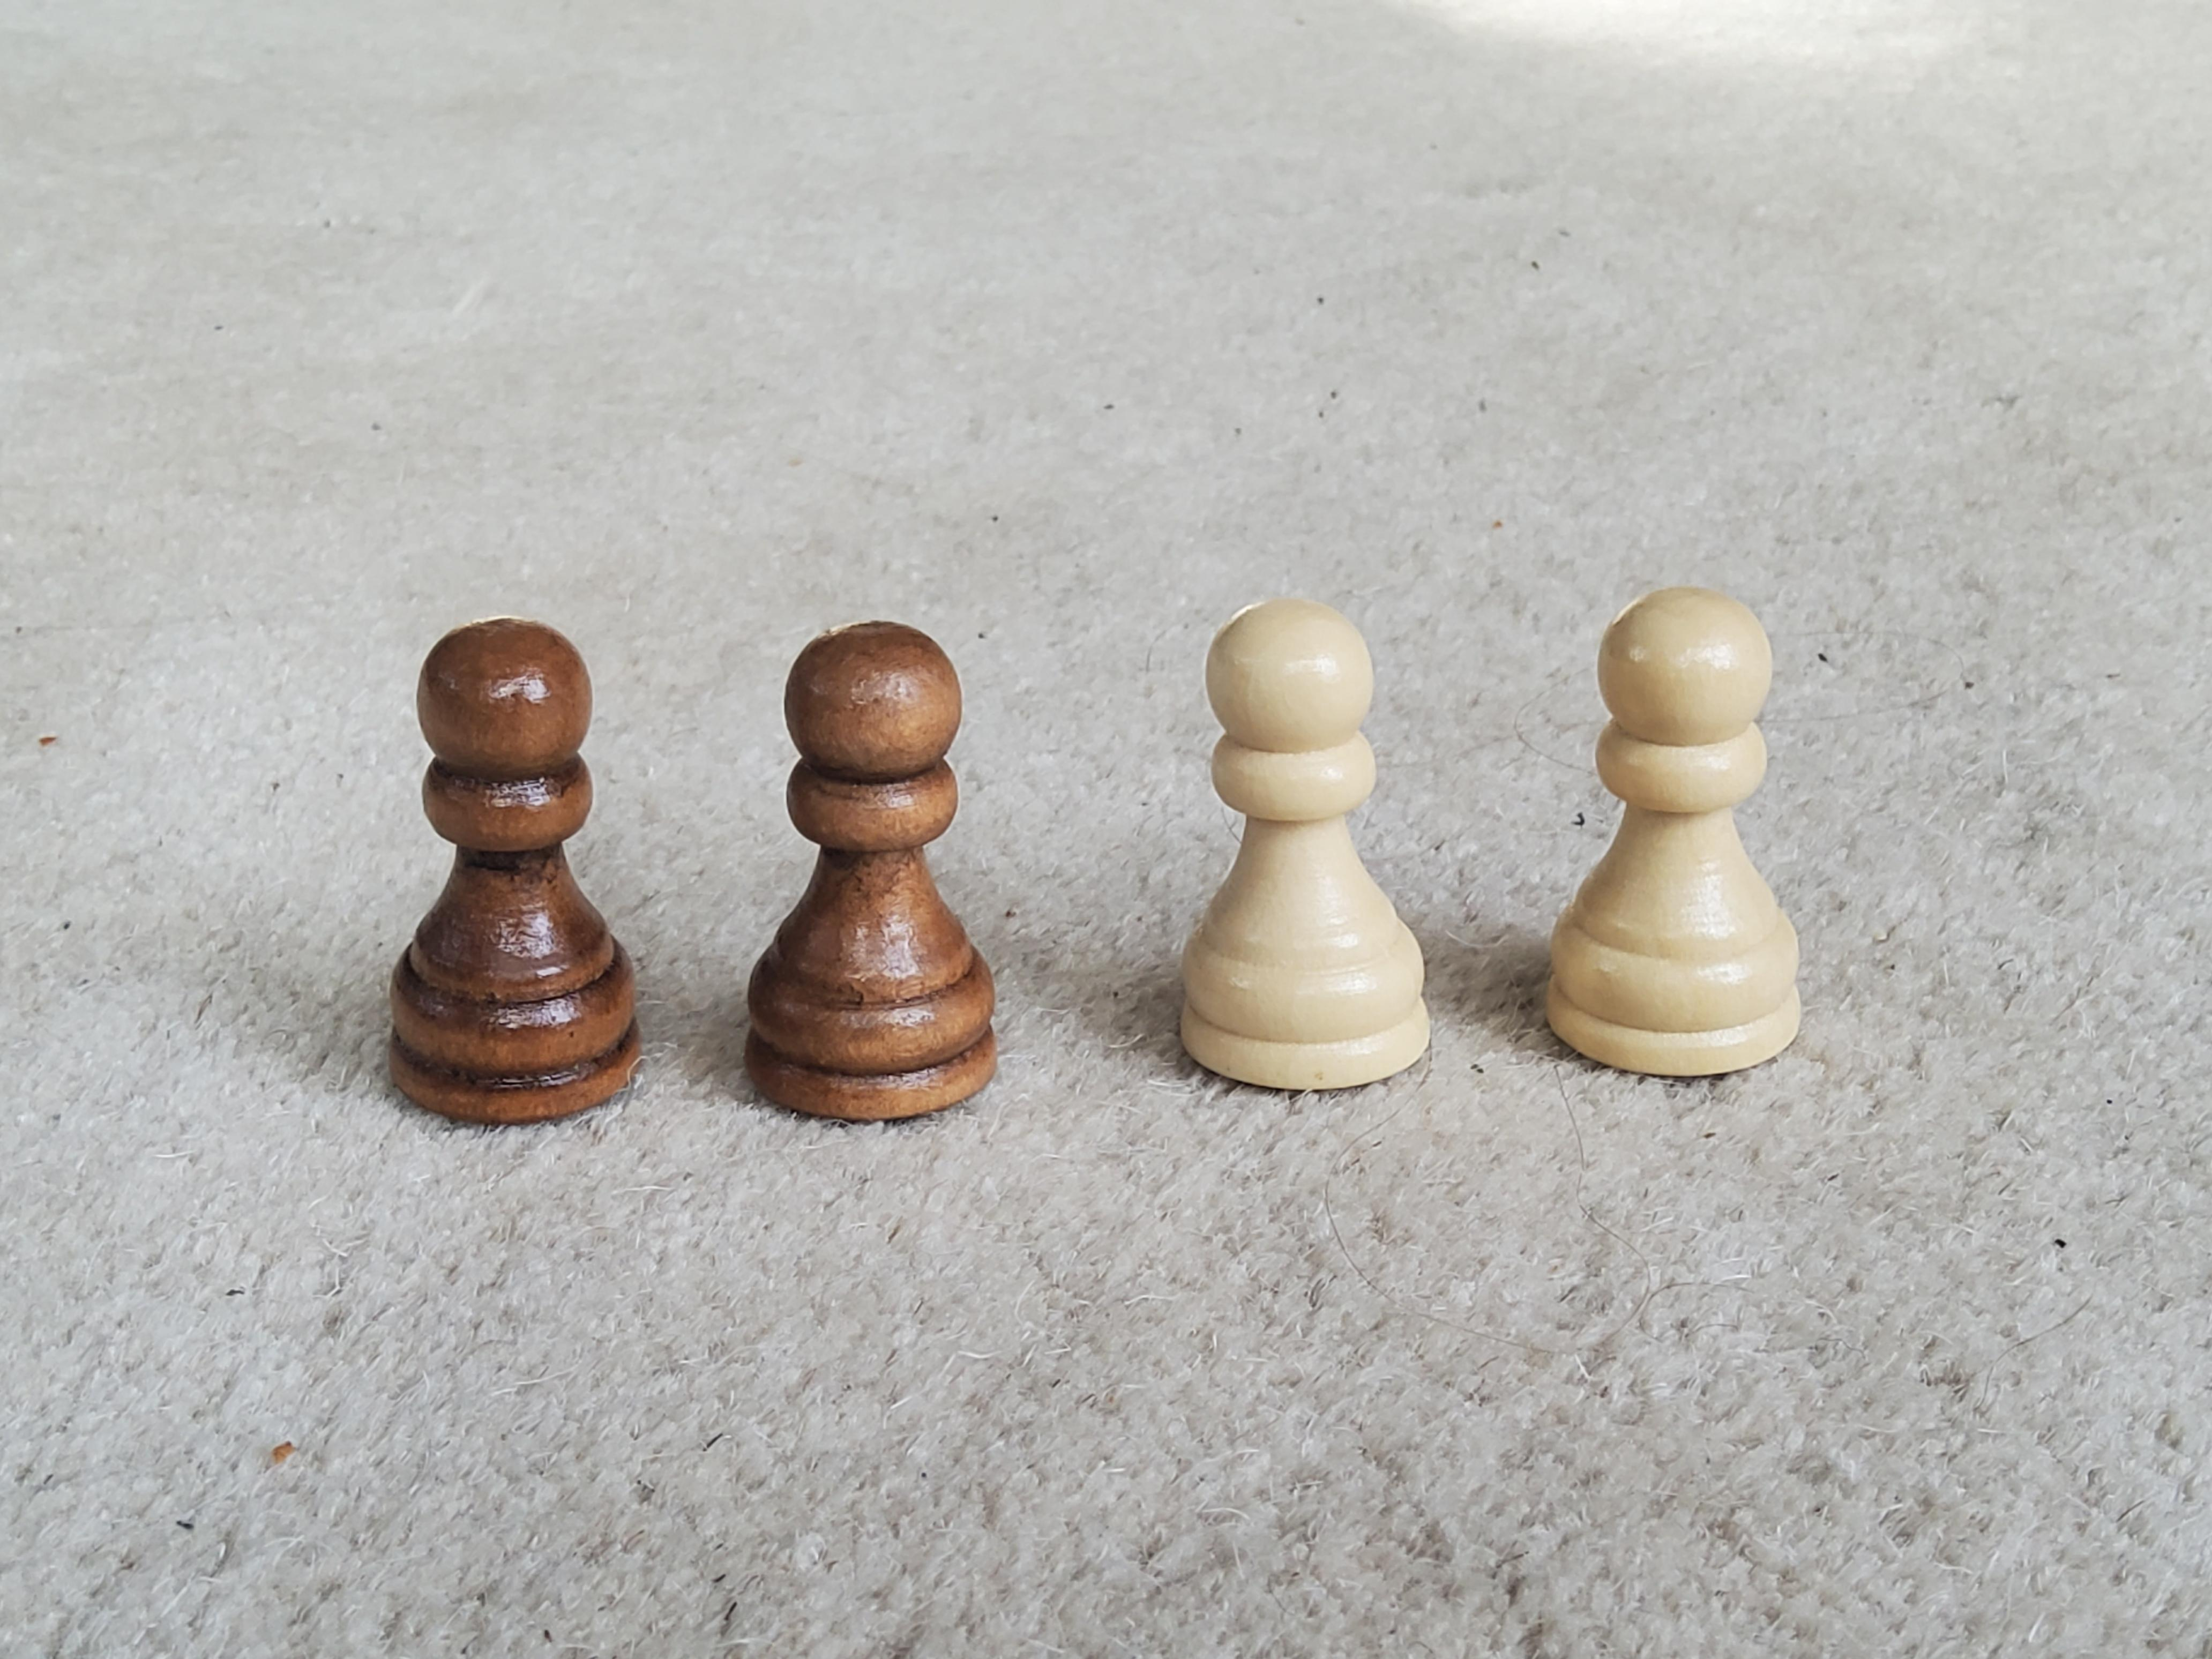schaak: (388, 605, 643, 1117), (1181, 592, 1430, 1086), (1562, 592, 1808, 1077), (766, 624, 986, 1121)
